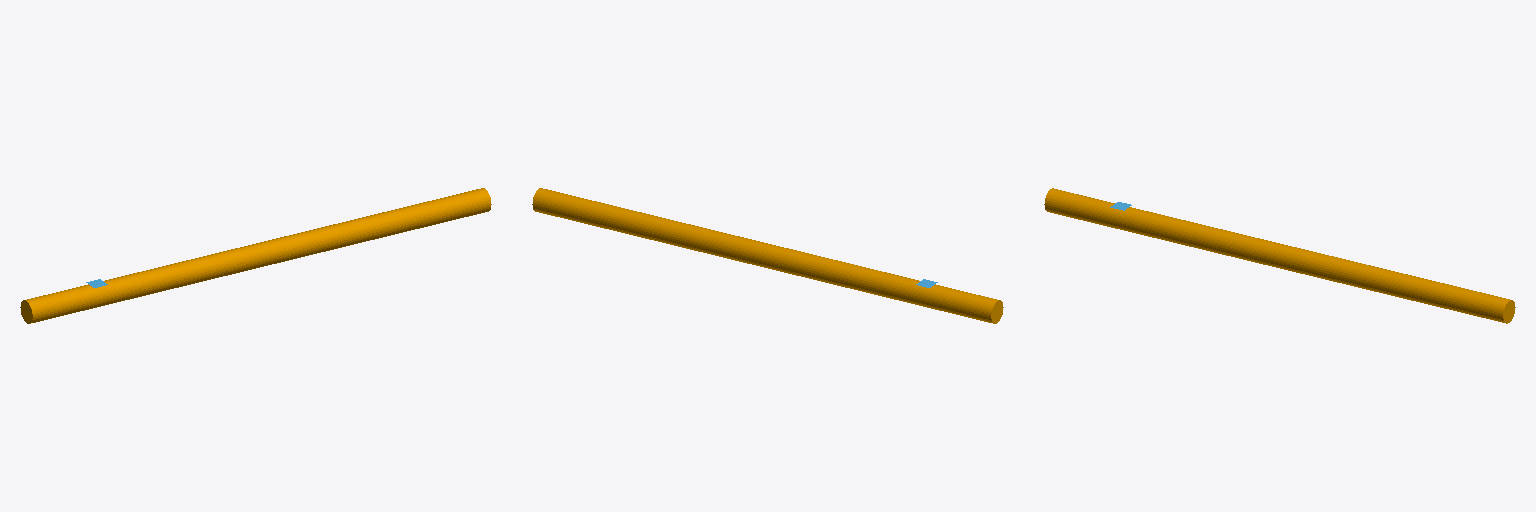
The robot description file, URDF, robot "Tube":
<?xml version="1.0"?>
<robot name="Tube">
  <link name="Tube_link">
    <inertial>
      <origin xyz="0 0 0" /> 
      <mass value="0.5" />
      <inertia  ixx="0.1" ixy="0.0"  ixz="0.0"  iyy="0.1"  iyz="0.0"  izz="0.1" />
    </inertial>
    <visual>
      <origin xyz="0 0 0" rpy="0 1.57 0"/>
      <geometry>
        <cylinder radius="0.03" length="1.3"/>
      </geometry>
    </visual>
    <collision>
      <origin xyz="0 0 0" rpy="0 1.57 0"/>
      <geometry>
        <cylinder radius="0.03" length="1.3"/>
      </geometry>
    </collision>
  </link>
  <gazebo reference="Tube_link">
    <material>PR2/Black</material>
    <turnGravityOff>true</turnGravityOff>
    <static>true</static>
  </gazebo>
  
  
  <link name="ARtag_link">
    <inertial>
      <origin xyz="0 0 0" /> 
      <mass value="0.1" />
      <inertia  ixx="1.0" ixy="0.0"  ixz="0.0"  iyy="1.0"  iyz="0.0"  izz="1.0" />
    </inertial>
    <visual>
<!--      <origin xyz="0 0 -0.9" rpy="0 0 0"/>-->
      <origin xyz="-0.45 0 0.045" rpy="0 0 1.57"/>
      <geometry>
        <box size="0.04 0.04 0" />

      </geometry>
    </visual>
    <collision>
<!--      <origin xyz="0 0 -0.9" rpy="0 0 0"/>-->
      <origin xyz="-0.45 0 0.045" rpy="0 0 1.57"/>
      <geometry>
        <box size="0.04 0.04 0" />
      </geometry>
    </collision>
  </link>
  <gazebo reference="ARtag_link">
    <material>Iri/ARtag</material>
    <turnGravityOff>true</turnGravityOff>
    <static>true</static>
  </gazebo>
  <joint name="tube_ARtag" type="fixed" >
	  <axis xyz="1 0 0" />
<!--	  <dynamics damping="0.0" friction="100.0"/>-->
<!-- 	  <limit effort="1000.0" lower="-0.548" upper="0.548" velocity="0.5"/> -->
	  <parent link="Tube_link" />
	  <child link="ARtag_link" />
	  <origin xyz="0 0 -0.015" rpy="0 0 0" />
  </joint>
  
  
  
  
  
  
  
  
</robot>

--- Render facts (derived) ---
The picture shows the robot from 3 angles, left to right: view 1: azimuth 30°, elevation 25°; view 2: azimuth 150°, elevation 25°; view 3: azimuth 330°, elevation 25°; orthographic projection.
Robot: Tube — 2 links, 1 joints (1 fixed); root link Tube_link; default pose: every joint at zero.
Visible links, largest first — view 1: Tube_link; view 2: Tube_link; view 3: Tube_link.
Link boxes in pixels (box(x1,y1,x2,y2)): Tube_link: box(20, 188, 491, 323); Tube_link: box(532, 188, 1003, 323); Tube_link: box(1044, 188, 1515, 323).
Bounding box of the posed robot: 1.3 × 0.06 × 0.061 m (x, y, z).
Geometry: primitives only (box / cylinder / sphere), no mesh files.
